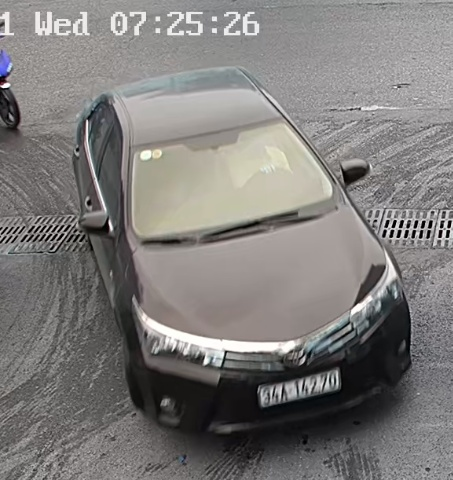vehicle plate: (246, 367, 349, 409)
